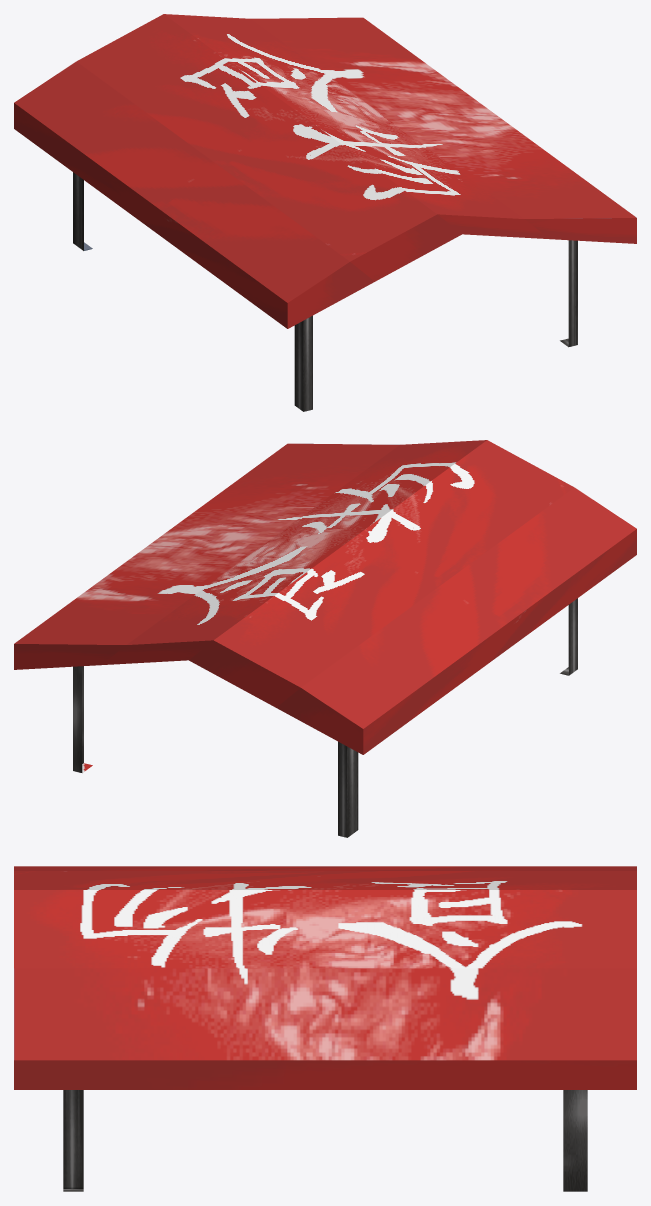
Rendered from ChinaTownCarpa.fbx.
3 renders of one model, top to bottom at view 1: azimuth 30°, elevation 25°; view 2: azimuth 150°, elevation 25°; view 3: azimuth 270°, elevation 25°, orthographic. The views are drawn at different scales.
Parts seen in each view (by area): view 1: support, toldosupport; view 2: support, toldosupport; view 3: support, toldosupport.
Part boxes in pixels (box(x1,y1,x2,y2)): support: box(14, 14, 636, 328); toldosupport: box(73, 172, 577, 411); support: box(14, 440, 636, 754); toldosupport: box(73, 598, 577, 837); support: box(14, 866, 636, 1089); toldosupport: box(63, 1090, 587, 1191).
Bounding box in the file's own units: 87.5 × 44.53 × 119.
1 material, 1 textured.
